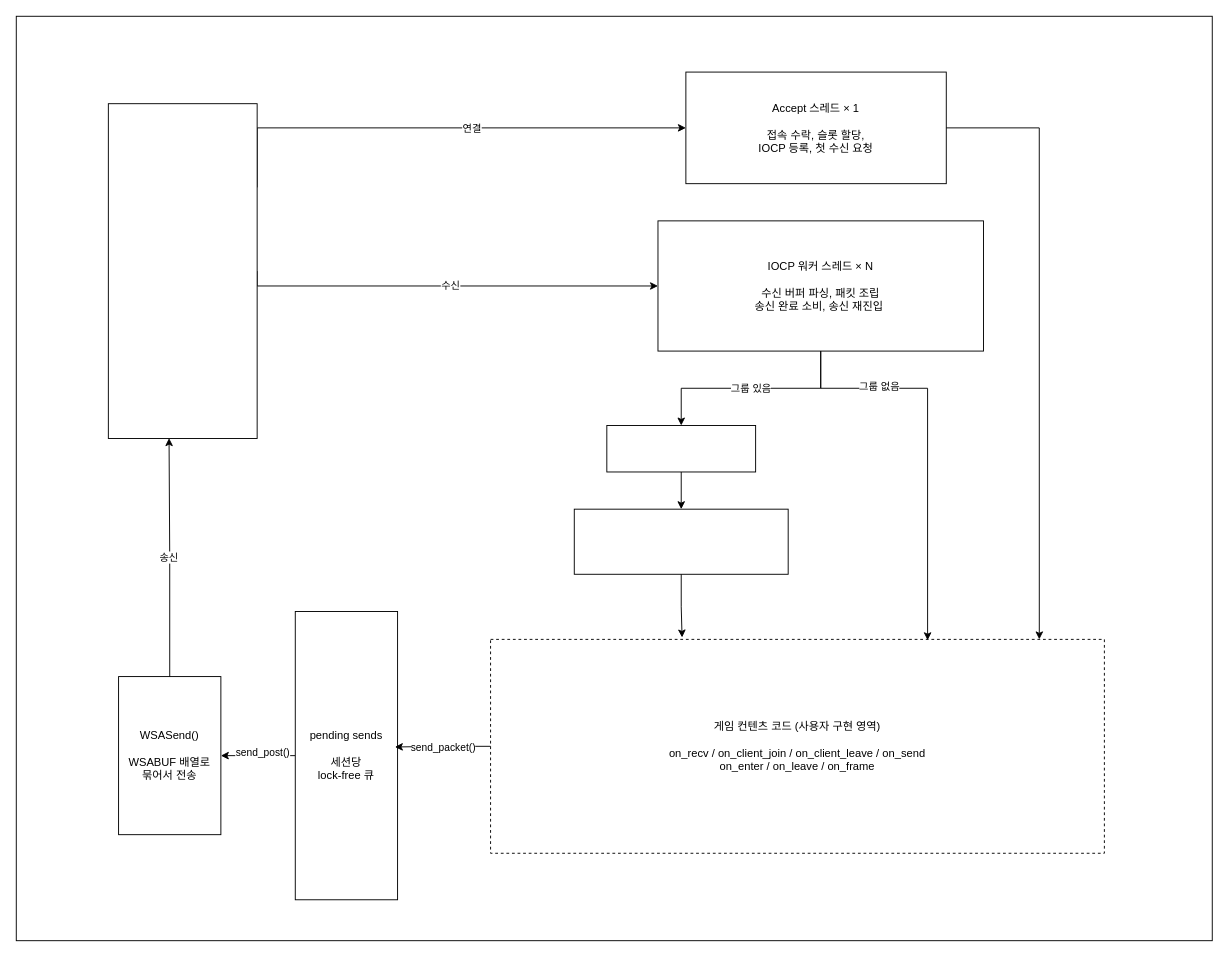
The diagram is 1229 pixels wide and 957 high, and some of its shapes have lost their labels. The centre of each missing label's shape, as x and y in pixels:
"Group 스레드 그룹당 1개, 직렬처리" belongs at pixel 680 541.
"MPSC Job 큐 그룹당 1개" belongs at pixel 681 448.
"클라이언트" belongs at pixel 182 270.
